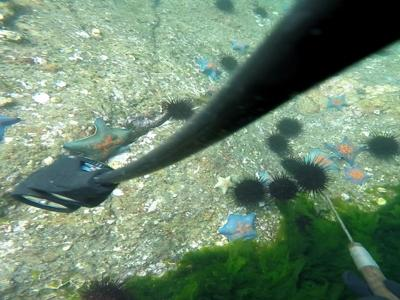urchin: (231, 173, 262, 212), (296, 161, 330, 196), (162, 93, 195, 120), (366, 131, 395, 157), (268, 172, 294, 200), (265, 132, 287, 156), (279, 116, 300, 137), (219, 54, 235, 69), (215, 2, 231, 14)
